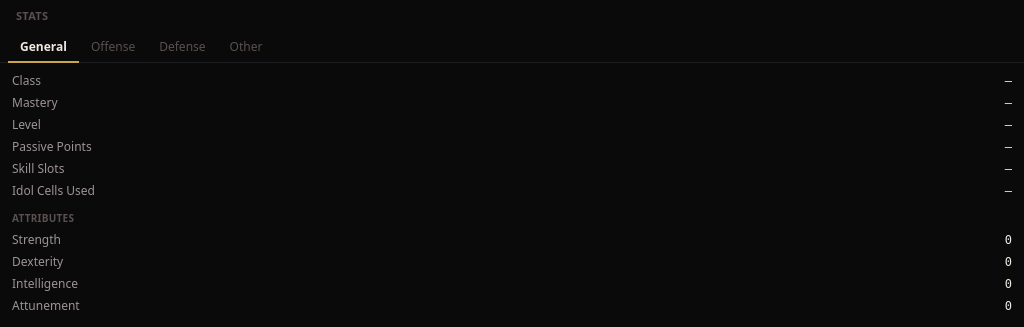
it: StatSheetPanel › shows "Base value only." for a sourced row with no entries (AC2)
Note: Strength is on the default General tab.
Step 1. Hover over the element showing "Strength 0" → (36, 239), box x1=12 y1=230 x2=1012 y2=250
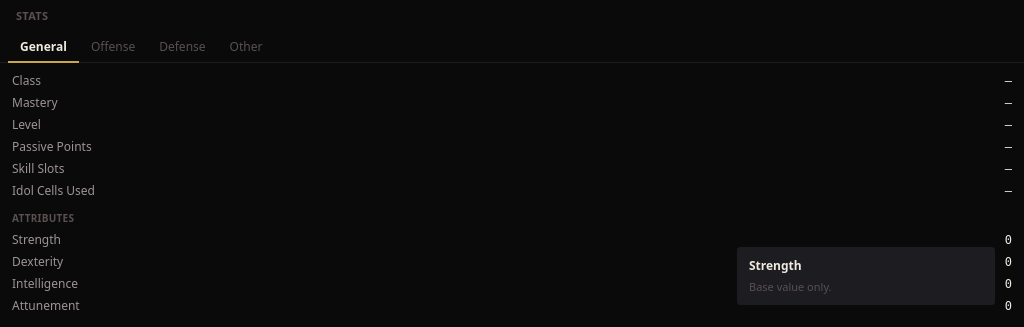
Check: the tooltip shows "Base value only.", box x1=749 y1=278 x2=832 y2=294
